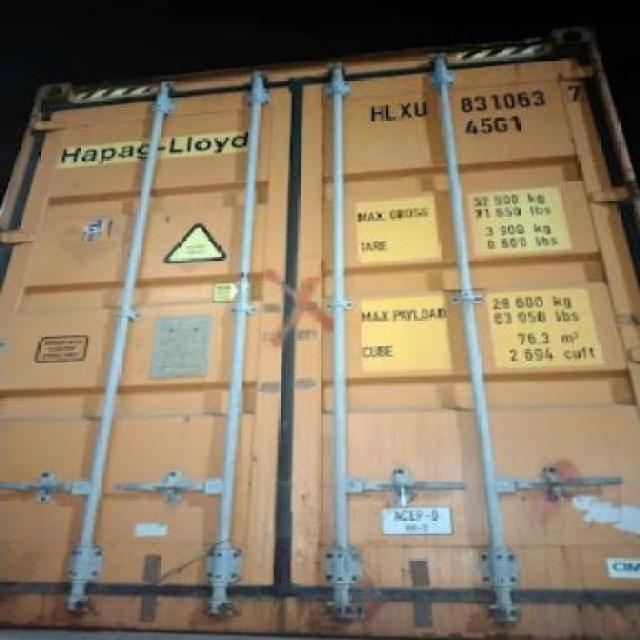ISO: (466, 114, 522, 136)
container_number: (368, 85, 582, 123)
